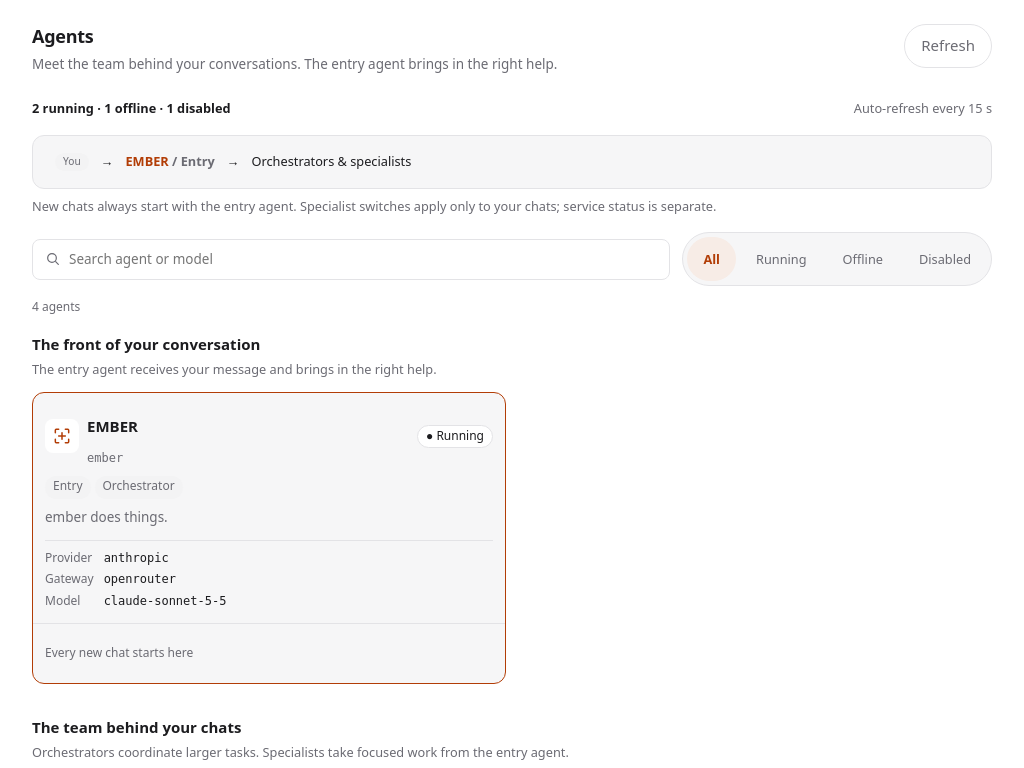
Scenario: AgentsView › summarises the statuses and leaves out the empty ones
The image size is (1024, 768).
Check: the text with class "summary" reads "2 running · 1 offline · 1 disabled", box [32,99,231,117]
Click the button "Refresh" at {"x": 948, "y": 46}, box [904,24,992,68]
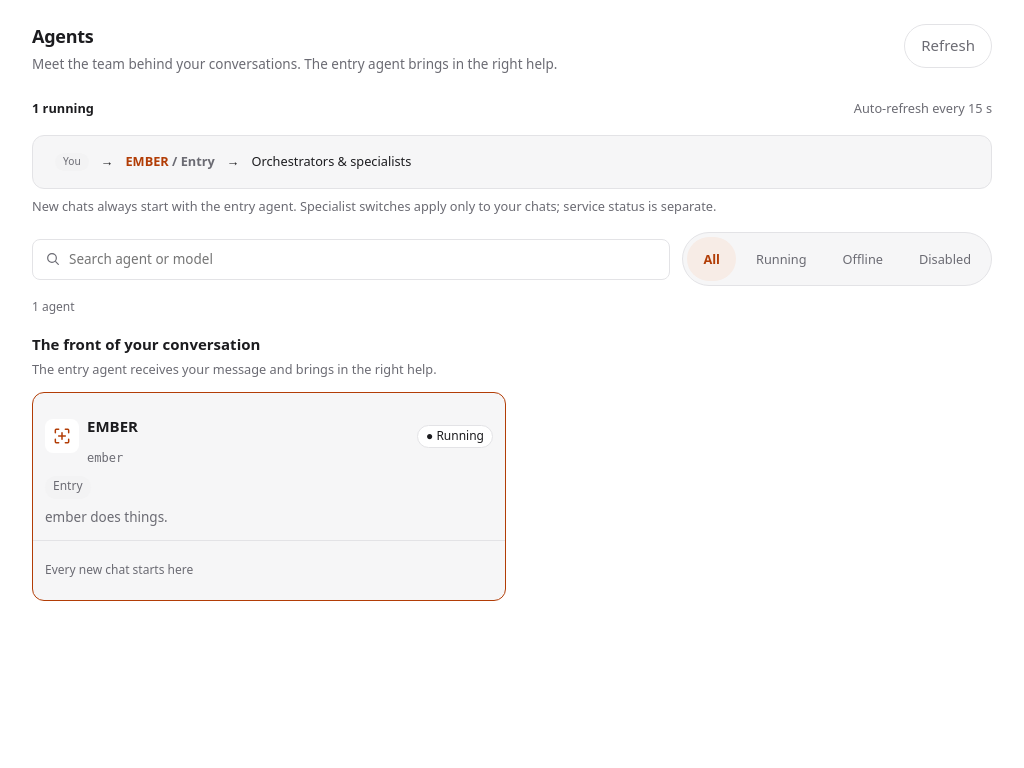
Check: the text with class "summary" reads "1 running", box [32,99,94,117]
